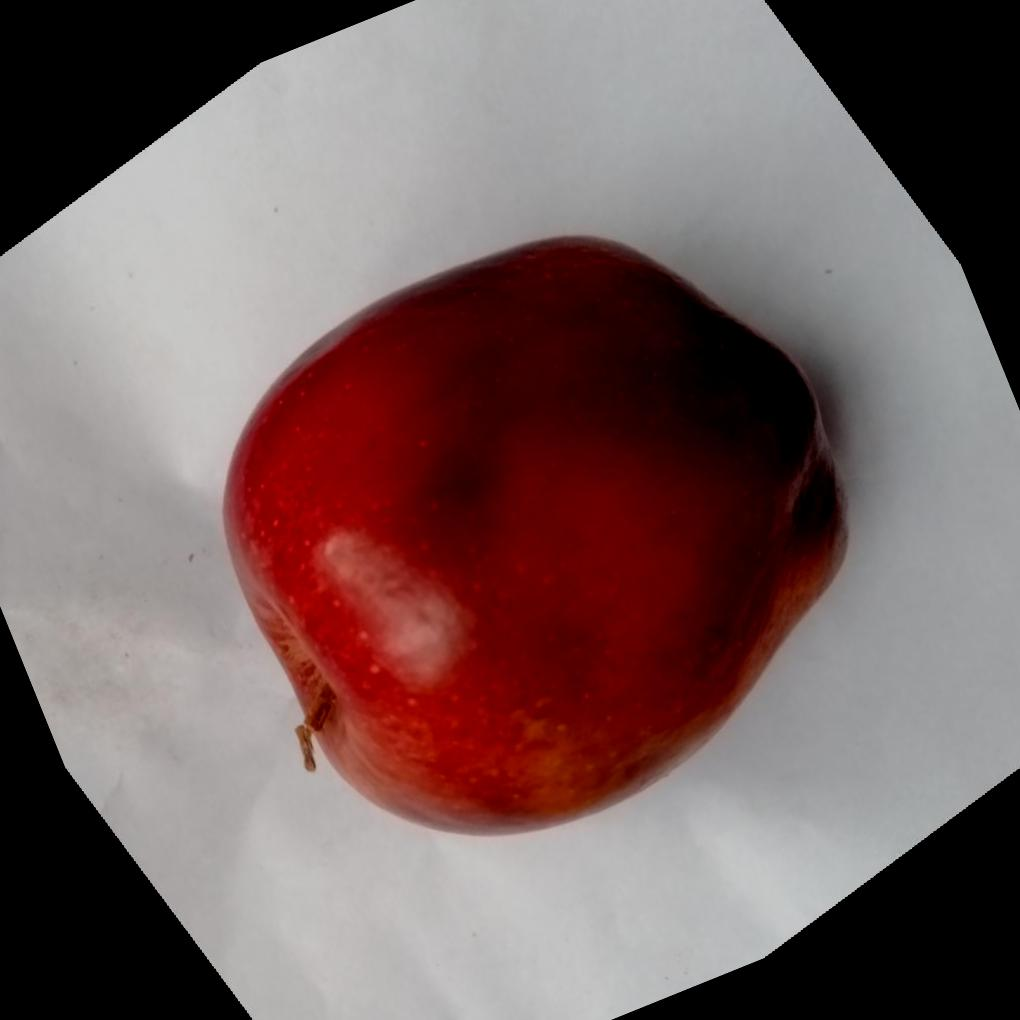FreshOrange: (218, 229, 849, 834)
